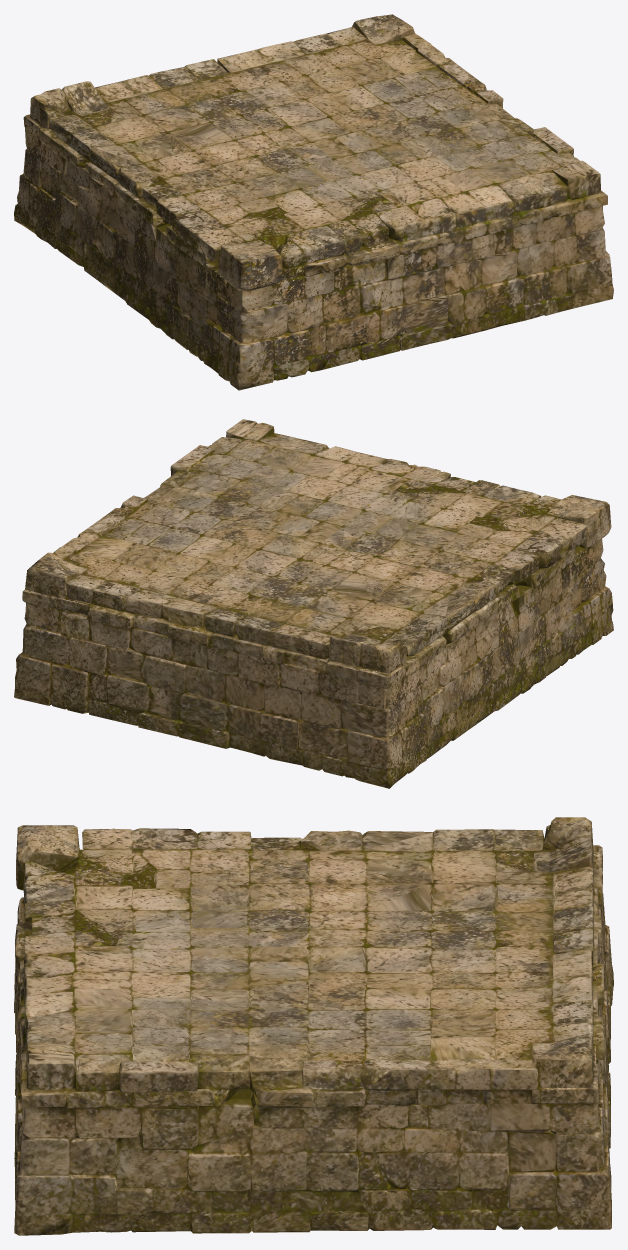
File: ARQ_PlataformaElevada_01_LOD1.fbx
The picture shows the model from 3 angles, top to bottom: view 1: azimuth 30°, elevation 25°; view 2: azimuth 150°, elevation 25°; view 3: azimuth 270°, elevation 25°; orthographic projection. The views are drawn at different scales.
Visible parts, largest first — view 1: ARQ_PlataformaElevada_01_Mesh000; view 2: ARQ_PlataformaElevada_01_Mesh000; view 3: ARQ_PlataformaElevada_01_Mesh000.
Boxes of the visible parts, x1,y1,x2,y2 form: ARQ_PlataformaElevada_01_Mesh000: [14, 14, 613, 390]; ARQ_PlataformaElevada_01_Mesh000: [14, 419, 613, 788]; ARQ_PlataformaElevada_01_Mesh000: [14, 817, 613, 1235].
Size of the model in its own units: 8 by 2.77 by 8.27.
